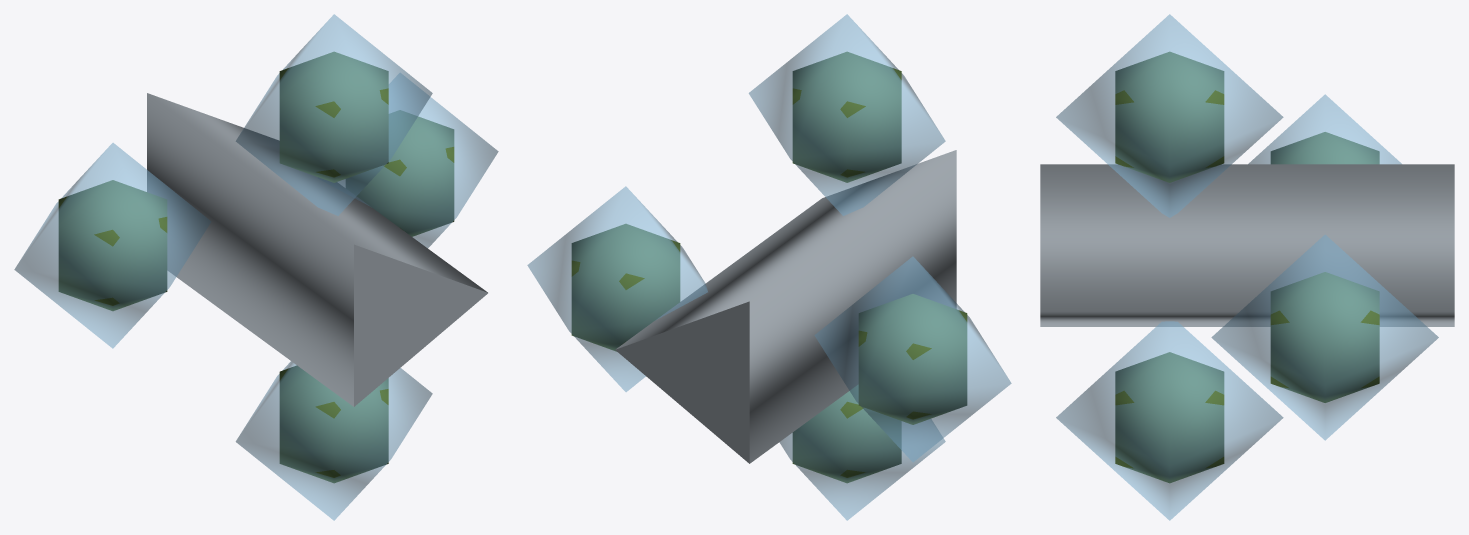
File: space_orbital_hydroponics_t2_lod2.glb
3 renders of one model, left to right at view 1: azimuth 30°, elevation 25°; view 2: azimuth 150°, elevation 25°; view 3: azimuth 270°, elevation 25°, orthographic.
Visible parts, largest first — view 1: body; view 2: body; view 3: body.
Boxes of the visible parts, box(x1,y1,x2,y2) form: body: box(14, 14, 498, 520); body: box(527, 14, 1011, 520); body: box(1040, 14, 1454, 520).
Bounding box in the file's own units: 10.8 × 10.8 × 8.
